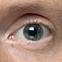eye: (23, 25, 43, 41)
